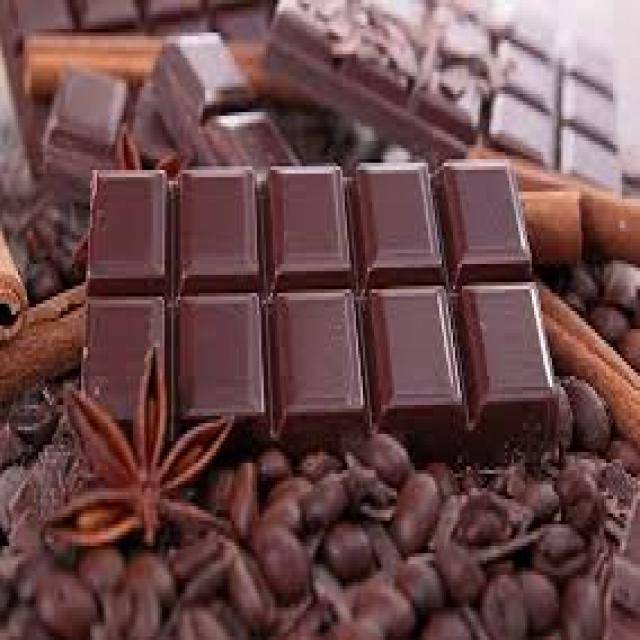Chocolate: (0, 0, 622, 459), (88, 165, 560, 453), (265, 0, 622, 198)
